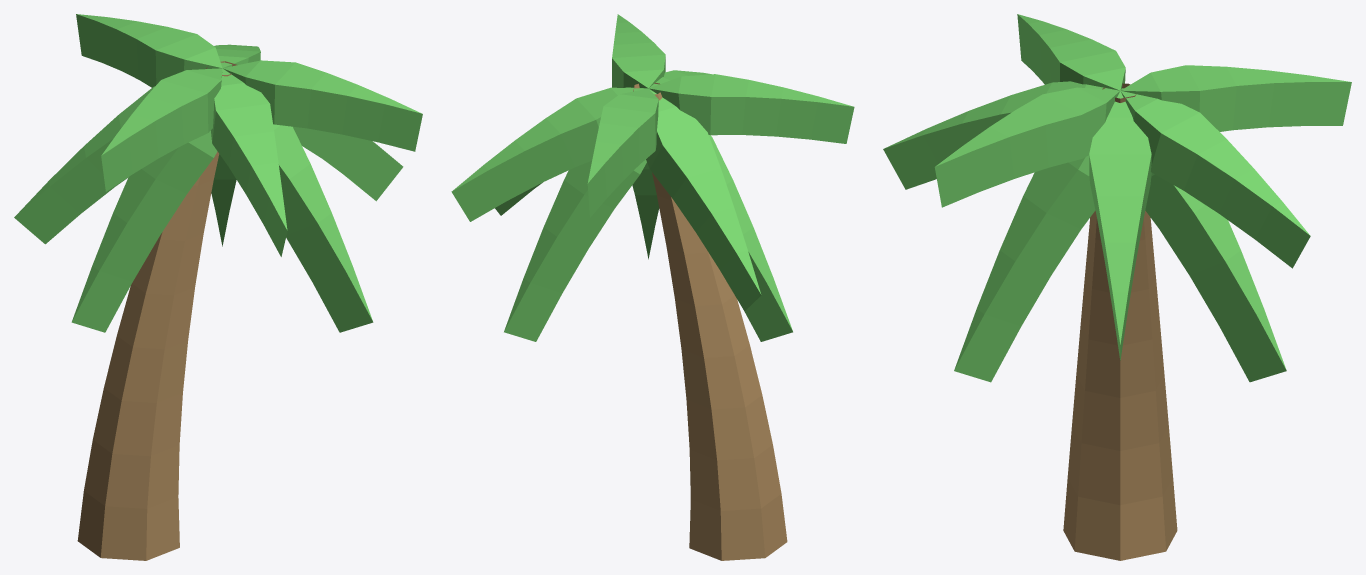
The model's file is PalmTree_LOD0_roblox.fbx.
3 views of the same model, side by side, from view 1: azimuth 30°, elevation 25°; view 2: azimuth 150°, elevation 25°; view 3: azimuth 270°, elevation 25° (orthographic). The views are drawn at different scales.
Visible parts, largest first — view 1: PalmTree_LeafMat, PalmTree_TrunkMat.002; view 2: PalmTree_LeafMat, PalmTree_TrunkMat.002; view 3: PalmTree_LeafMat, PalmTree_TrunkMat.002.
Boxes of the visible parts, box(x1,y1,x2,y2) form: PalmTree_LeafMat: box(14, 14, 422, 332); PalmTree_TrunkMat.002: box(77, 61, 236, 560); PalmTree_LeafMat: box(451, 14, 854, 341); PalmTree_TrunkMat.002: box(633, 82, 787, 560); PalmTree_LeafMat: box(883, 14, 1351, 382); PalmTree_TrunkMat.002: box(1063, 83, 1177, 560).
Size of the model in its own units: 7.33 by 7.73 by 9.1.
